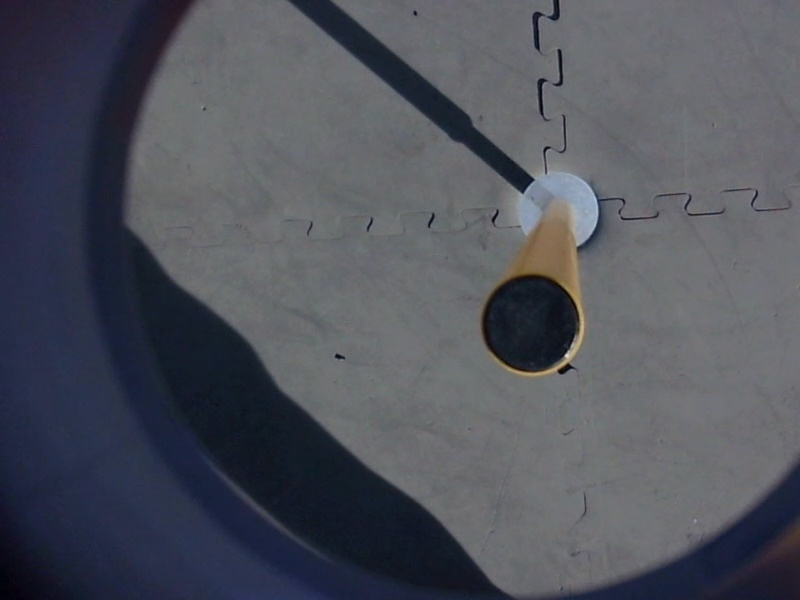tip: (471, 269, 591, 387)
